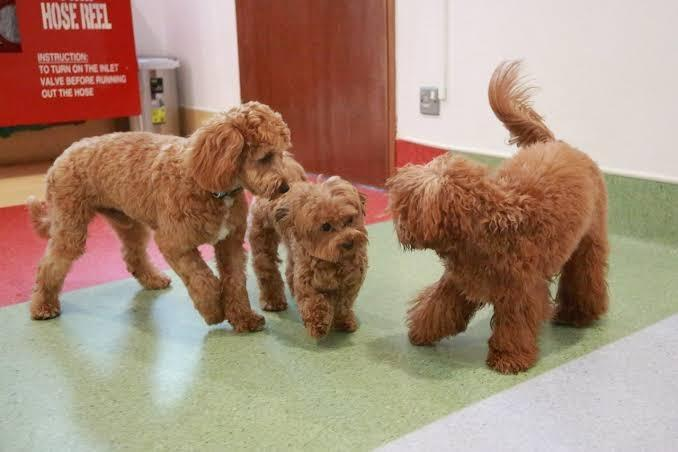adult_dog: (383, 57, 612, 375), (26, 98, 307, 333)
puppy-dog: (248, 170, 369, 342)
